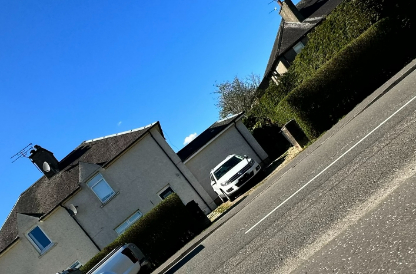car: (200, 151, 266, 207)
